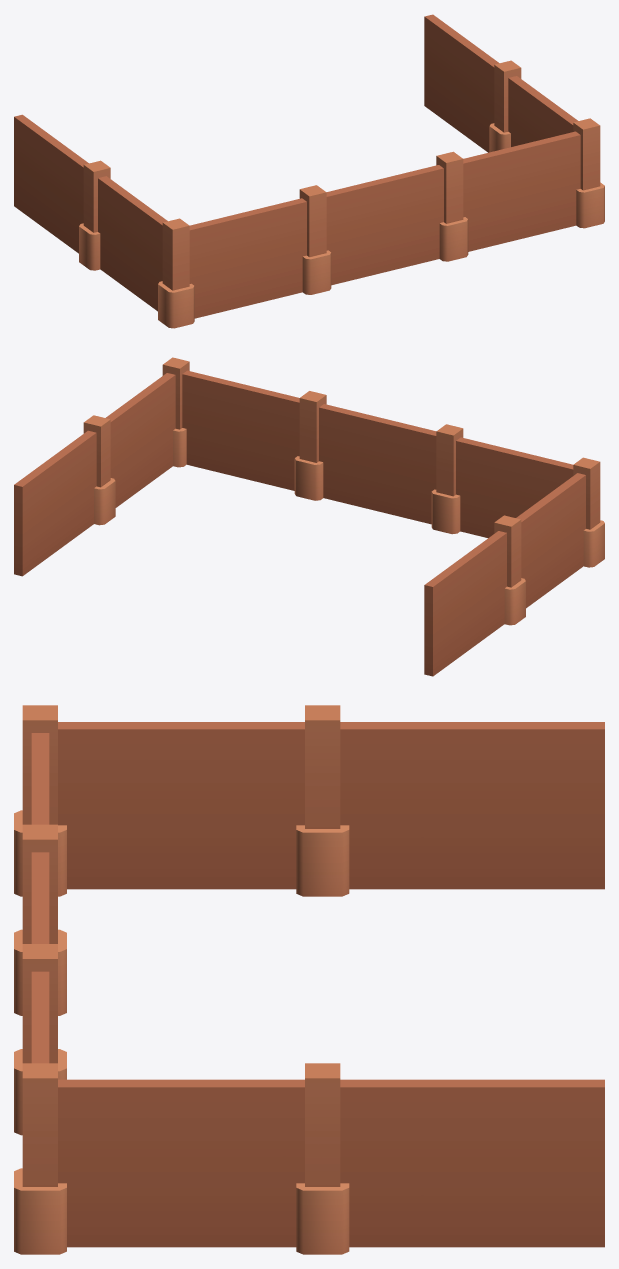
The model's file is fence-2x3.glb.
The picture shows the model from 3 angles, top to bottom: view 1: azimuth 30°, elevation 25°; view 2: azimuth 150°, elevation 25°; view 3: azimuth 270°, elevation 25°; orthographic projection. The views are drawn at different scales.
Visible parts, largest first — view 1: fence-2x3; view 2: fence-2x3; view 3: fence-2x3.
Boxes of the visible parts, <box> form: fence-2x3: <box>14,14,604,328</box>; fence-2x3: <box>14,357,604,676</box>; fence-2x3: <box>14,705,604,1254</box>.
Size of the model in its own units: 1.28 by 0.27 by 0.8374.
Materials: 1 (1 with a texture image).
